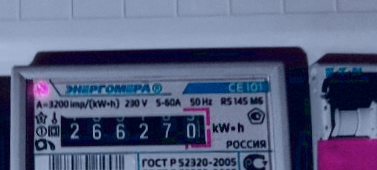0: (183, 119, 195, 139)
2: (66, 119, 81, 140), (136, 120, 149, 140)
6: (89, 121, 102, 141), (113, 120, 126, 139)
7: (159, 119, 172, 139)
screen: (46, 100, 220, 159)
